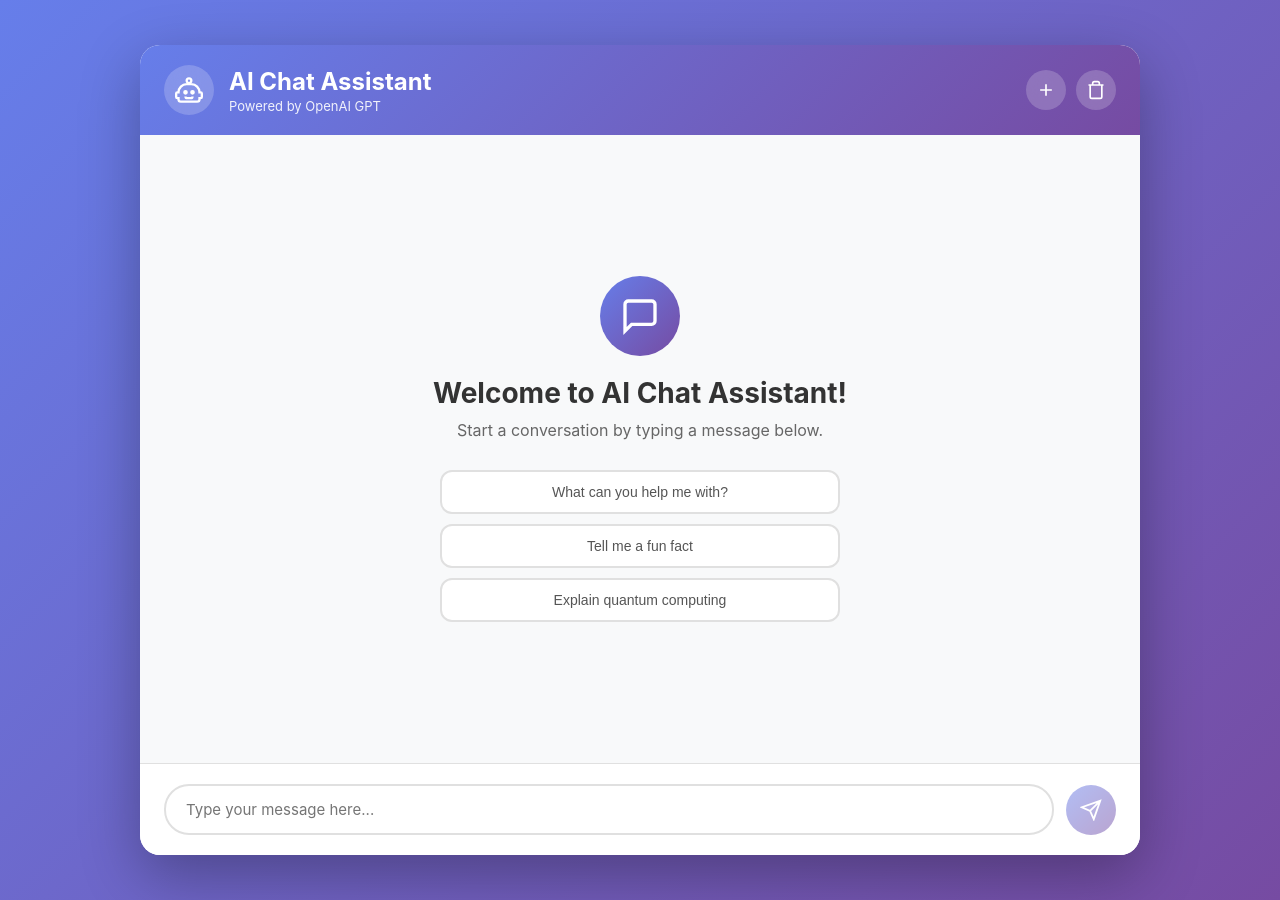
Test: App Component › sends message and displays response
// Type a message
Type "Hello" into the field with placeholder "Type your message here..." at x=609, y=810, box [164, 784, 1054, 835]
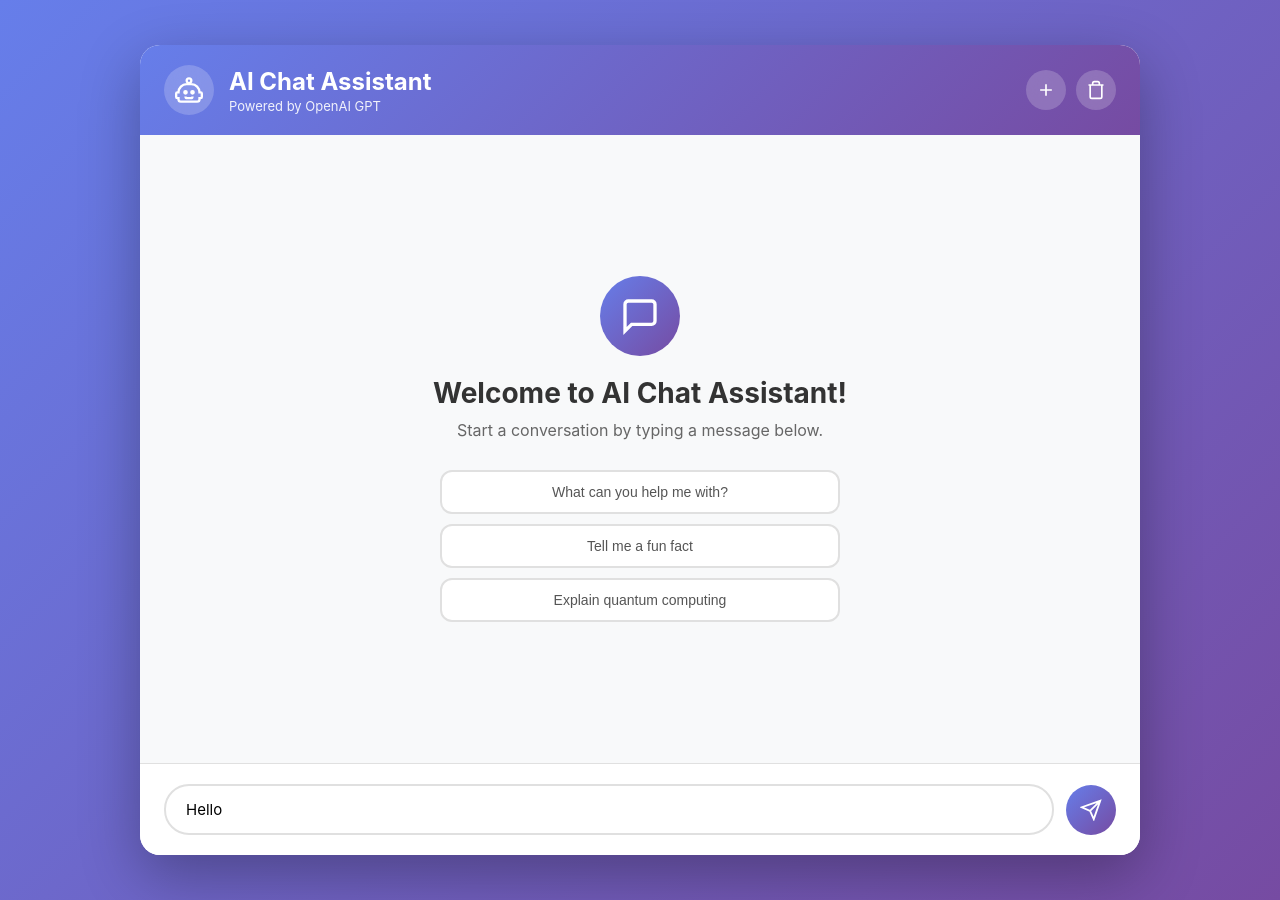
// Send the message
Click the button titled "Send message" at x=1091, y=810, box [1066, 784, 1116, 834]
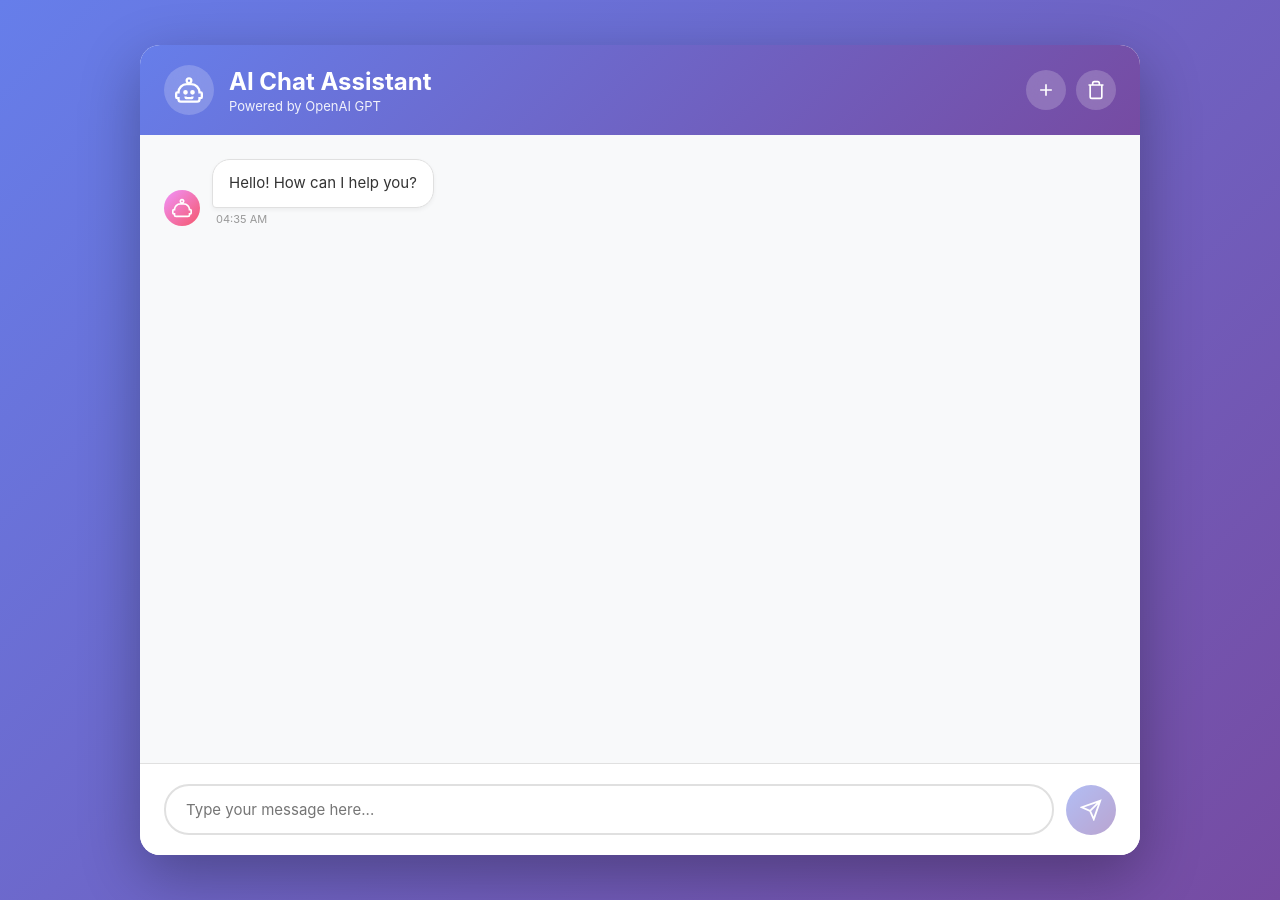
Expected: the text "Hello! How can I help you?" is shown, [212, 159, 434, 208]
